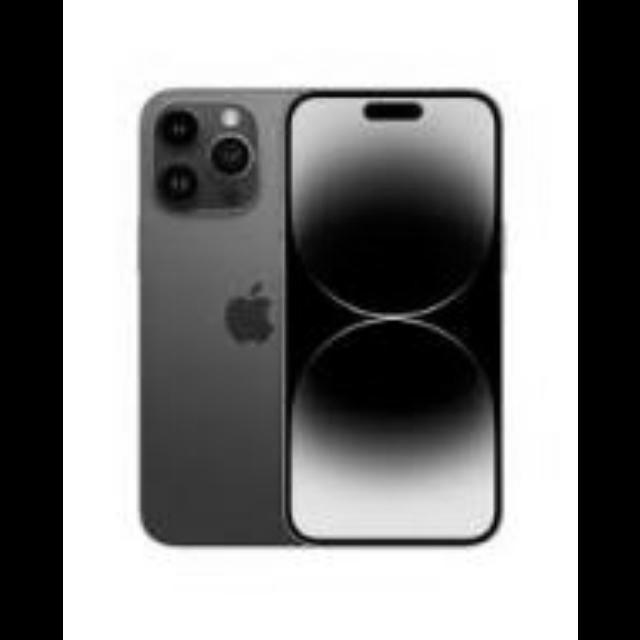fake: (286, 88, 504, 548)
